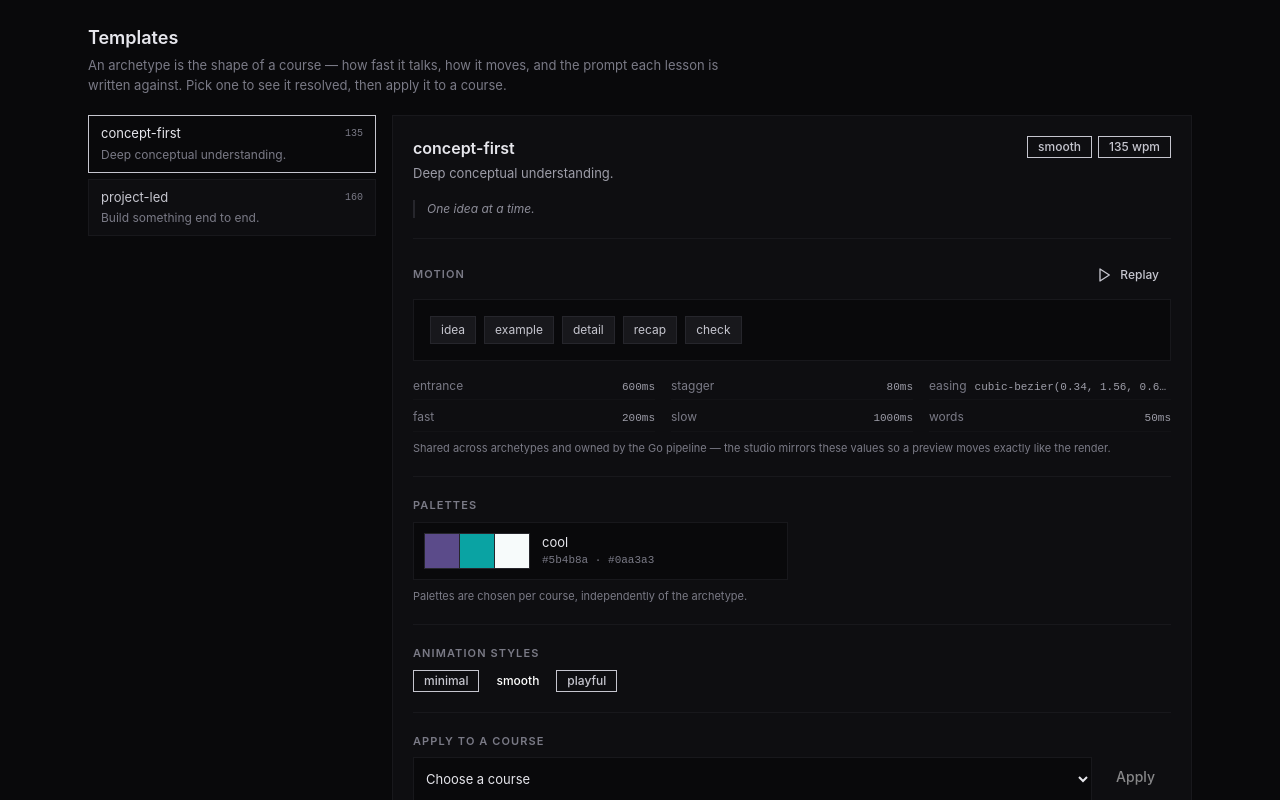
Test case: switches the detail panel when another archetype is picked
The width and height of the screenshot is (1280, 800).
Click the radio button labelled "project-led 160 Build something end to end." at point(232, 207), box [88, 178, 376, 236]
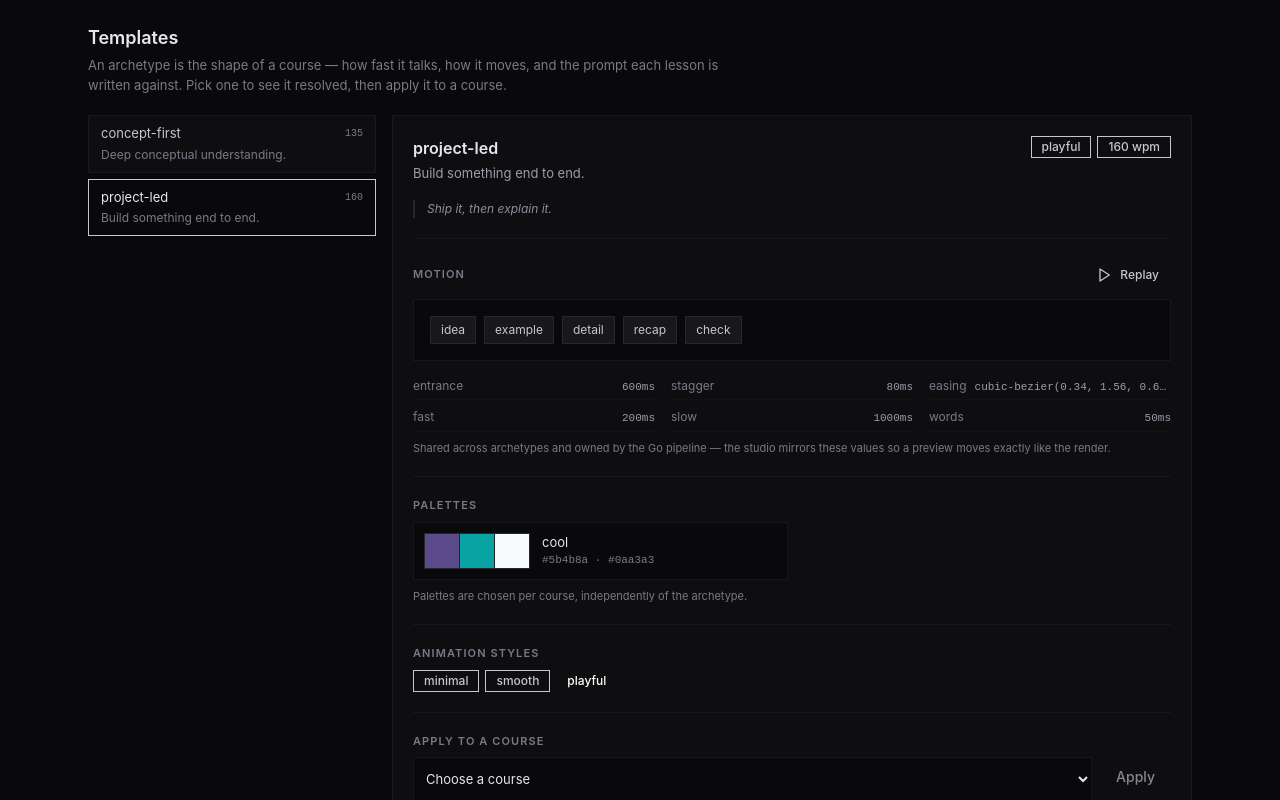
expect the text "Ship it, then explain it." is shown: met, box [413, 200, 1171, 218]
expect the text "One idea at a time." is gone: met
